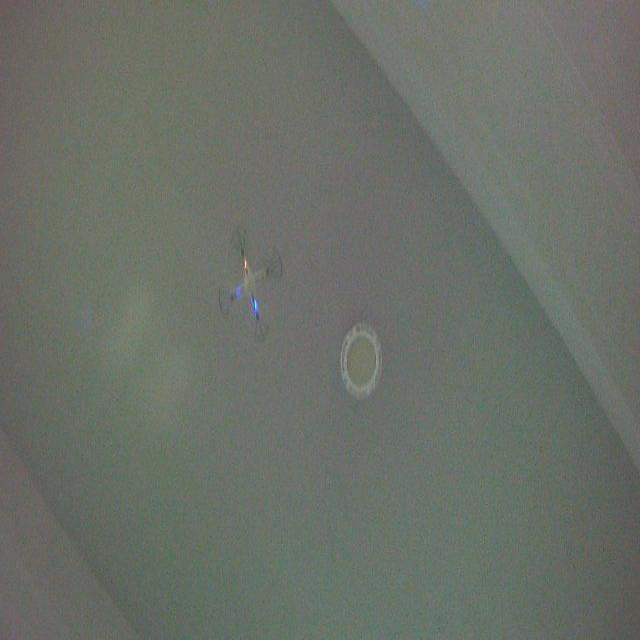drone: (216, 221, 286, 343)
